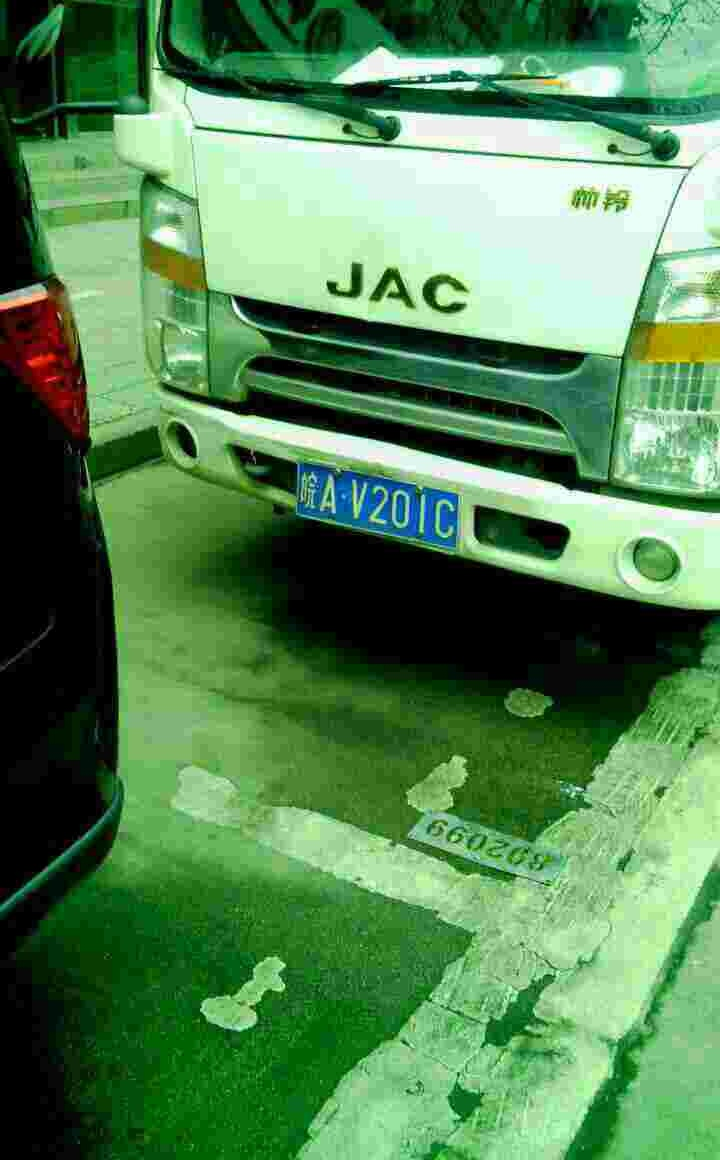license_plate: (288, 460, 465, 554)
